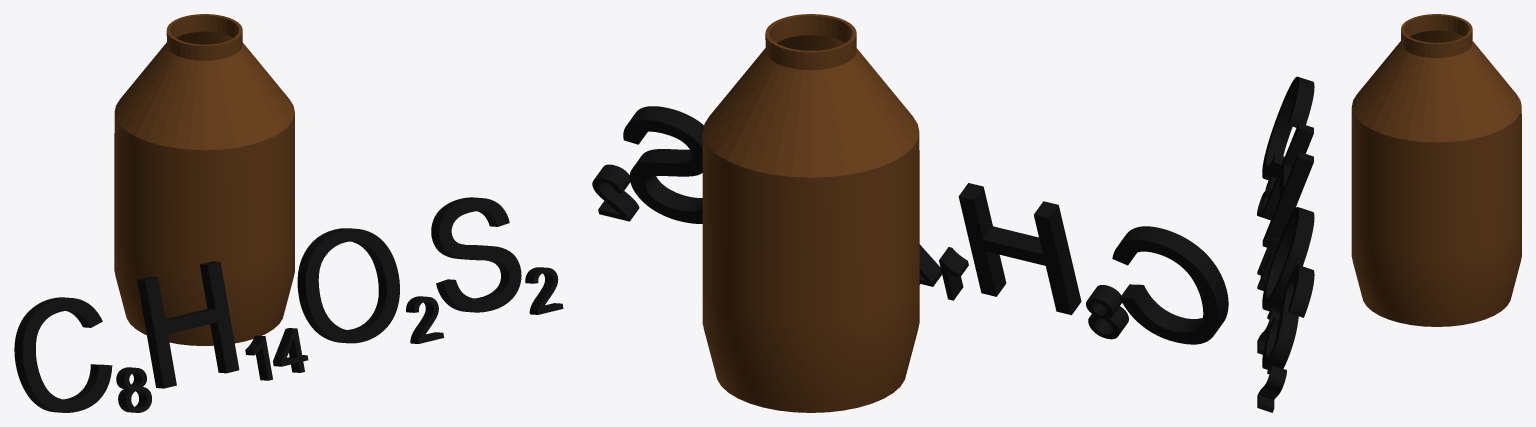
The picture shows the model from 3 angles, left to right: view 1: azimuth 30°, elevation 25°; view 2: azimuth 150°, elevation 25°; view 3: azimuth 270°, elevation 25°; orthographic projection. The views are drawn at different scales.
Visible parts, largest first — view 1: C8H14O2S2; view 2: C8H14O2S2; view 3: C8H14O2S2.
Part boxes in pixels (left/top/right/bottom): C8H14O2S2: left=14, top=14, right=563, bottom=412; C8H14O2S2: left=592, top=14, right=1228, bottom=412; C8H14O2S2: left=1257, top=14, right=1521, bottom=412.
Size of the model in its own units: 11.08 by 5.67 by 5.12.
